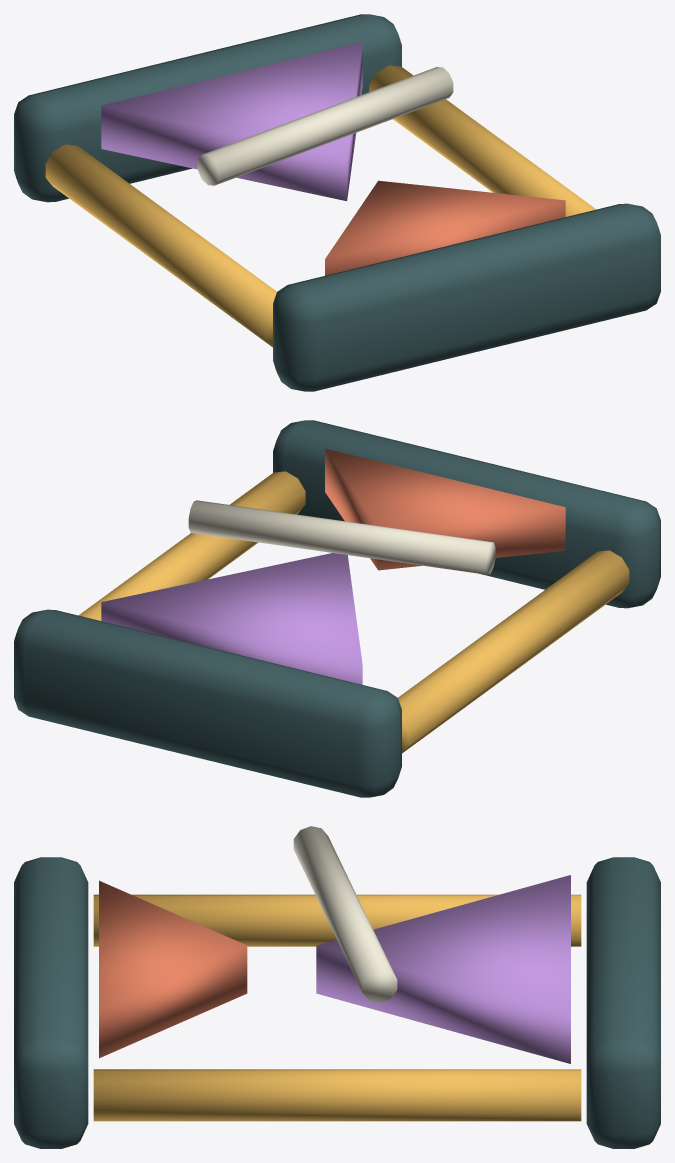
Rendered from death.glb.
3 renders of one model, top to bottom at view 1: azimuth 30°, elevation 25°; view 2: azimuth 150°, elevation 25°; view 3: azimuth 270°, elevation 25°, orthographic. The views are drawn at different scales.
Visible parts, largest first — view 1: Hourglass lintel, Upper time shard, Hourglass lintel.001, Hourglass post, Remaining time, Time fracture, Hourglass post.001; view 2: Hourglass lintel.001, Hourglass lintel, Upper time shard, Remaining time, Hourglass post, Time fracture, Hourglass post.001; view 3: Upper time shard, Hourglass post.001, Hourglass lintel, Hourglass lintel.001, Remaining time, Hourglass post, Time fracture.
Part boxes in pixels (left/top/right/bottom): Hourglass lintel: left=273, top=203, right=660, bottom=391; Upper time shard: left=101, top=42, right=362, bottom=201; Hourglass lintel.001: left=14, top=14, right=401, bottom=202; Hourglass post: left=45, top=144, right=276, bottom=347; Remaining time: left=325, top=180, right=565, bottom=275; Time fracture: left=197, top=67, right=453, bottom=185; Hourglass post.001: left=369, top=65, right=596, bottom=216; Hourglass lintel.001: left=14, top=609, right=401, bottom=797; Hourglass lintel: left=273, top=420, right=660, bottom=608; Upper time shard: left=101, top=553, right=362, bottom=684; Remaining time: left=325, top=448, right=565, bottom=570; Hourglass post: left=398, top=550, right=629, bottom=753; Time fracture: left=188, top=500, right=495, bottom=574; Hourglass post.001: left=78, top=471, right=305, bottom=620; Upper time shard: left=316, top=875, right=570, bottom=1063; Hourglass post.001: left=93, top=1069, right=581, bottom=1121; Hourglass lintel: left=14, top=857, right=88, bottom=1148; Hourglass lintel.001: left=586, top=857, right=660, bottom=1148; Remaining time: left=99, top=880, right=247, bottom=1058; Hourglass post: left=93, top=894, right=581, bottom=946; Time fracture: left=293, top=826, right=397, bottom=1002.
Bounding box in the file's own units: 1.8 × 0.65 × 2.44.
